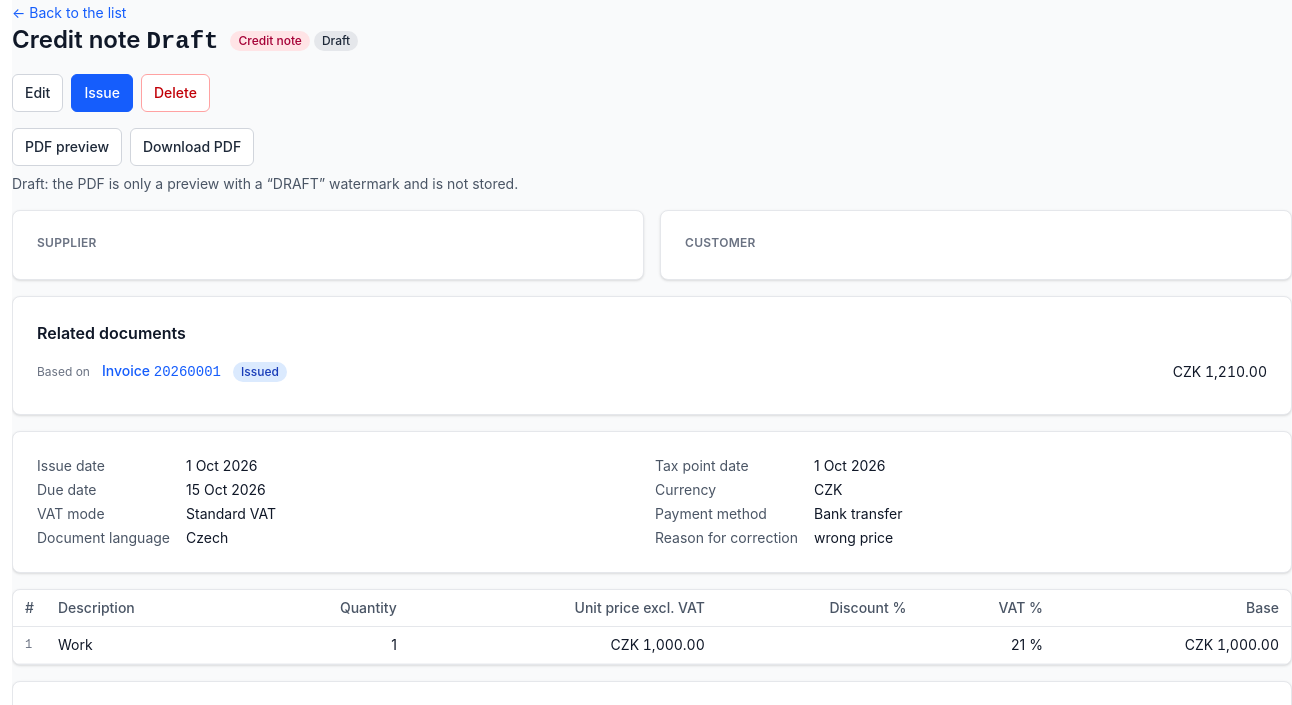
detail per document type › credit note: negated totals, badge, parent invoice link and the exceeds_original reason
This screenshot has width=1292, height=705.
Check: the heading "Credit note Draft" is shown, box [12,24,218,58]
Check: the text "Credit note" is shown, box [230,31,310,51]
Click the button with test id "issue".
click(102, 93)  # box [71,74,133,112]
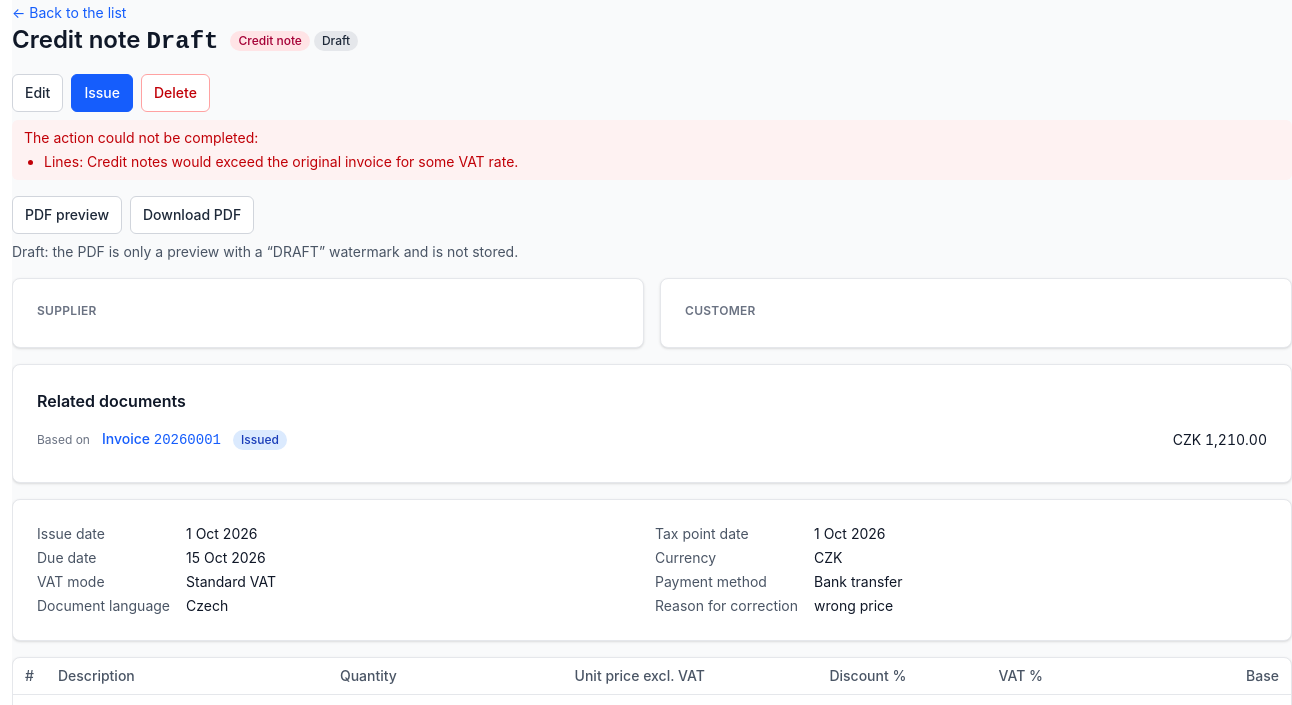
Check: the 1st list item reads "Lines: Credit notes would exceed the original invoice for some VAT rate.", box [44,153,518,170]
